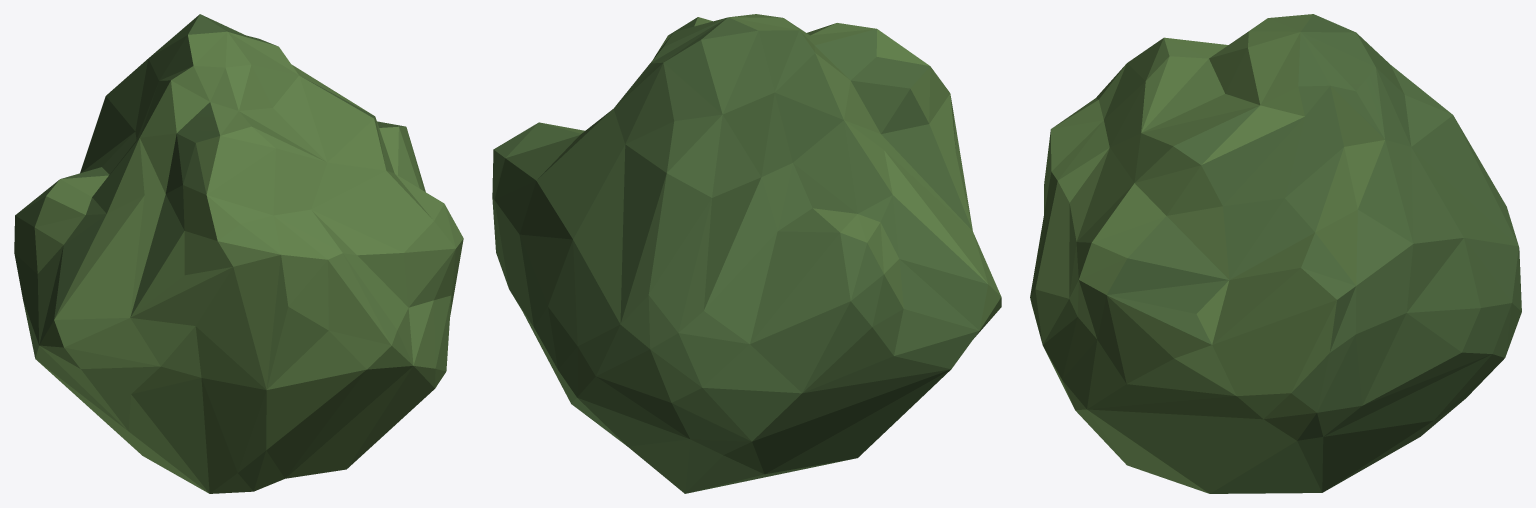
The model's file is bush.glb.
The picture shows the model from 3 angles, left to right: view 1: azimuth 30°, elevation 25°; view 2: azimuth 150°, elevation 25°; view 3: azimuth 270°, elevation 25°; orthographic projection. The views are drawn at different scales.
Visible parts, largest first — view 1: SM_Env_Bush_01; view 2: SM_Env_Bush_01; view 3: SM_Env_Bush_01.
Boxes of the visible parts, x1,y1,x2,y2 form: SM_Env_Bush_01: [14, 14, 463, 493]; SM_Env_Bush_01: [492, 14, 1001, 493]; SM_Env_Bush_01: [1030, 14, 1521, 493].
Size of the model in its own units: 1.62 by 1.46 by 1.57.
